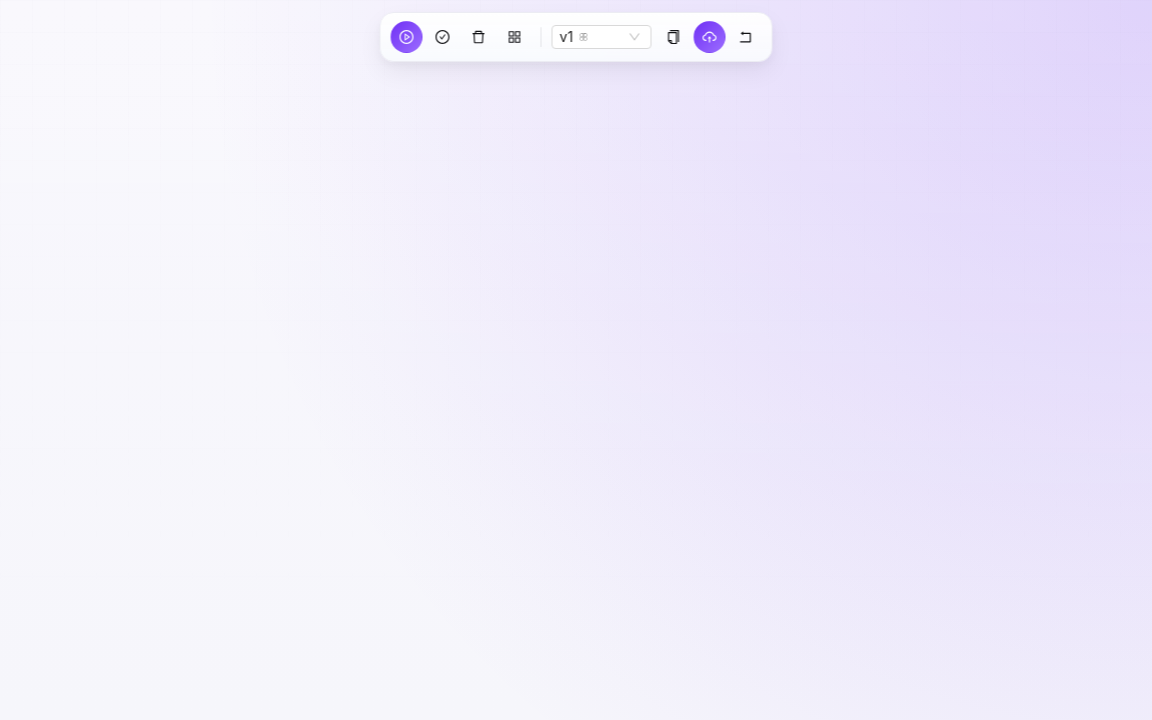
it: CanvasFloatingToolbar › click Publish opens publishExisting dialog when workflowId exists
Click the button with test id "floating-btn-publish" at x=710, y=37, box [694,21,726,53]
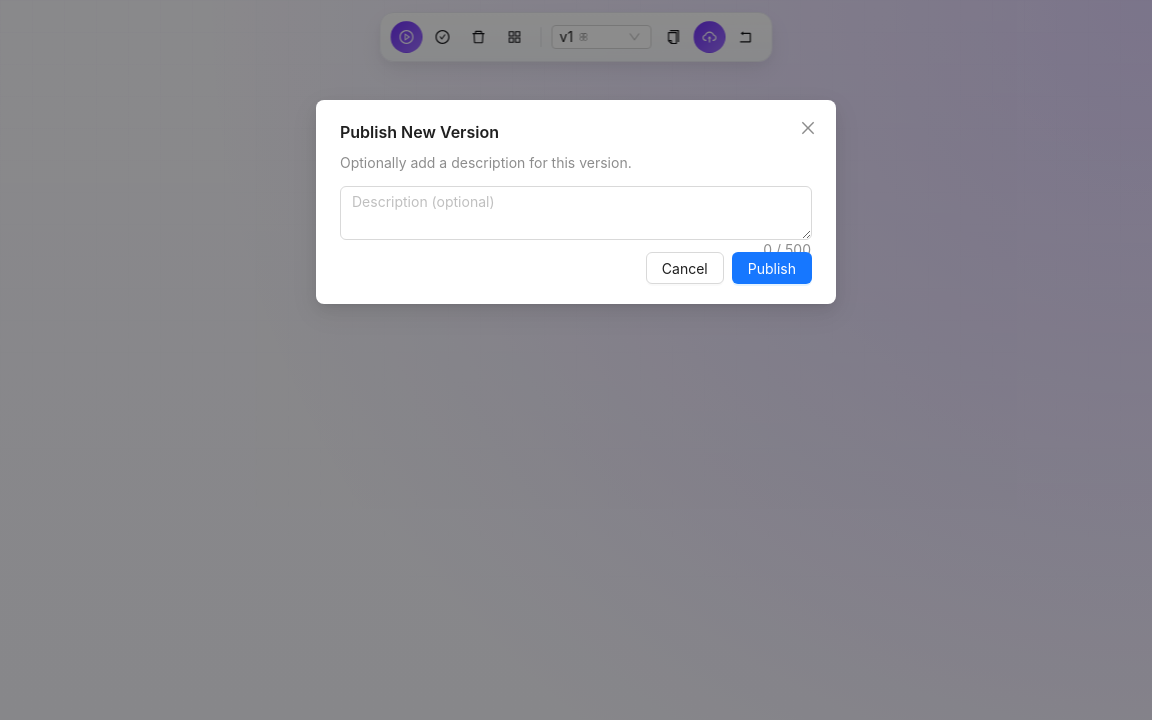
Expected: the text "Publish New Version" is shown, [340,122,499,142]
